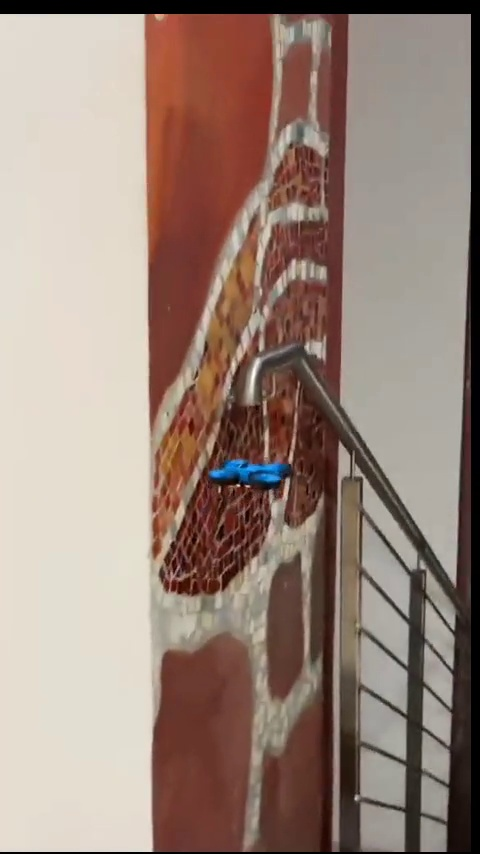drone: (204, 457, 289, 490)
